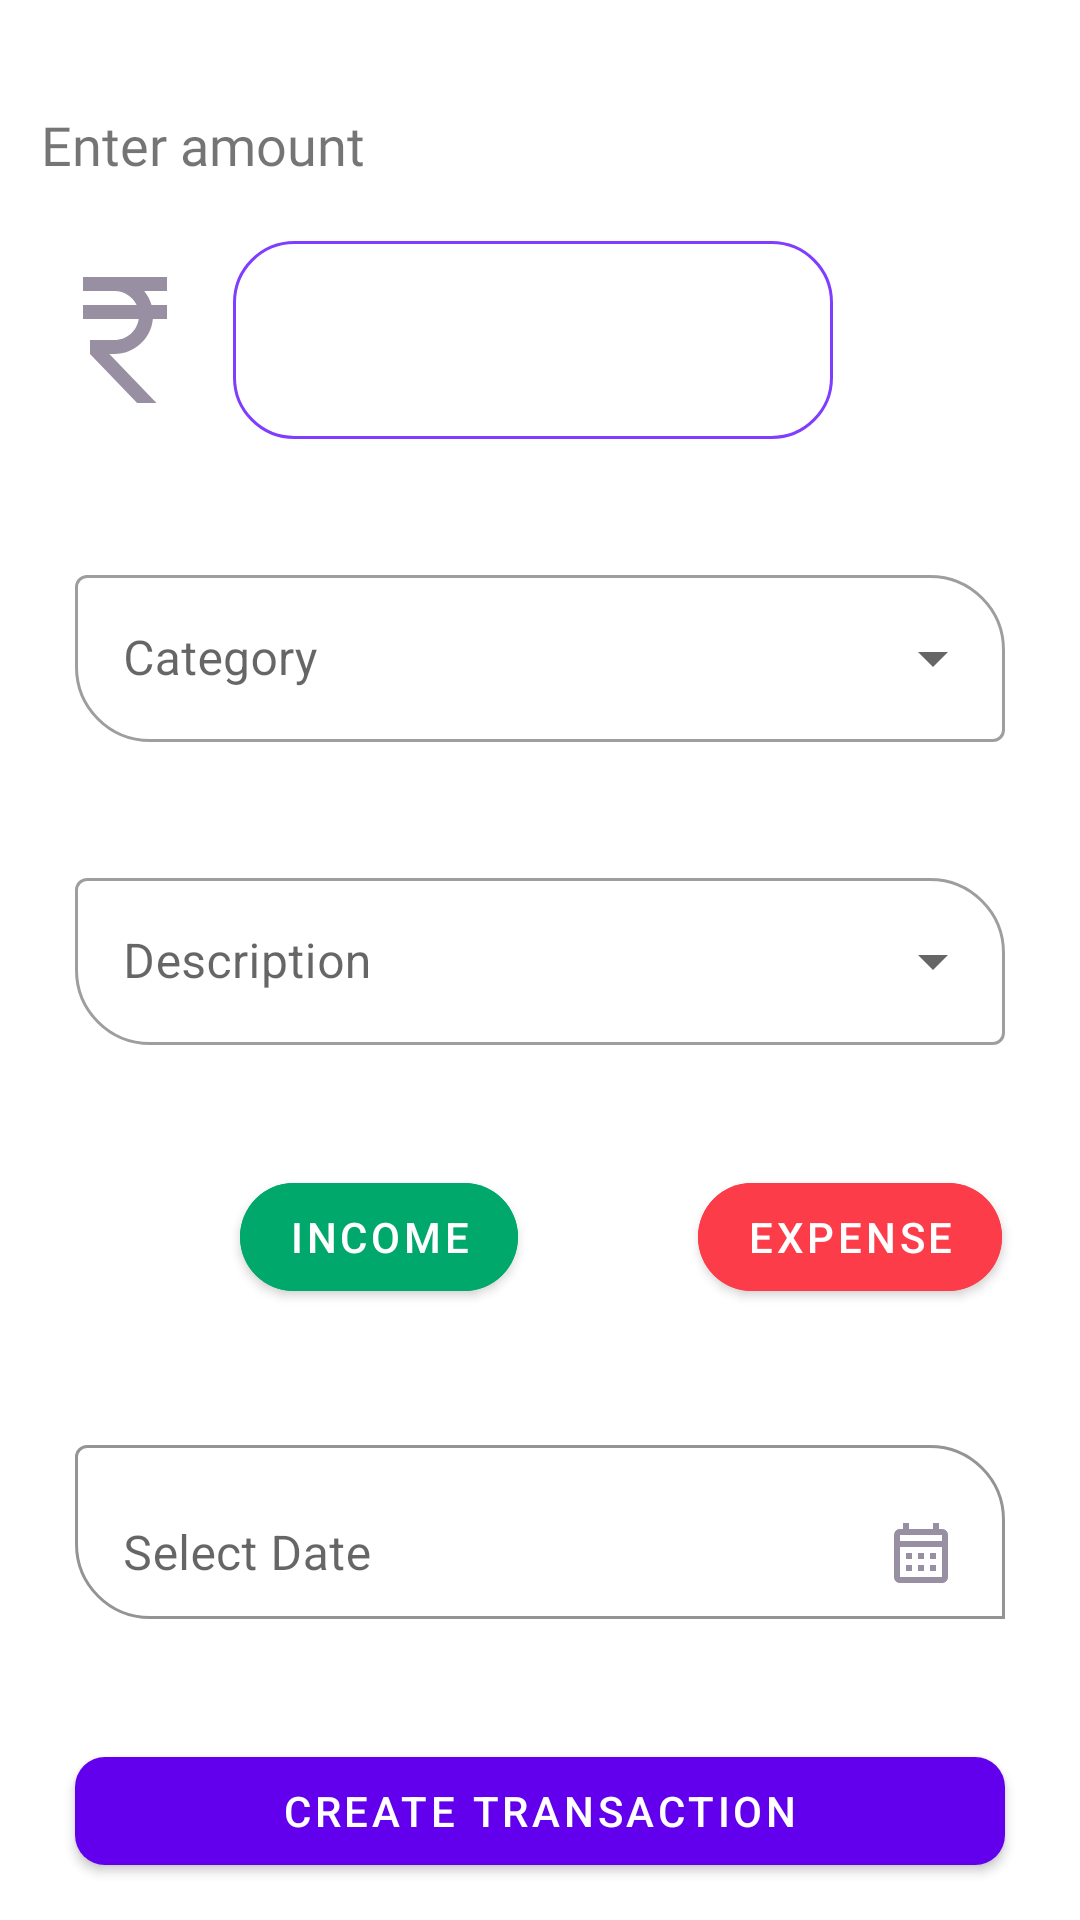

Where to tap for icons on this 1080x1920 app screen, as [x,y]:
currency rupee: [125,340]
